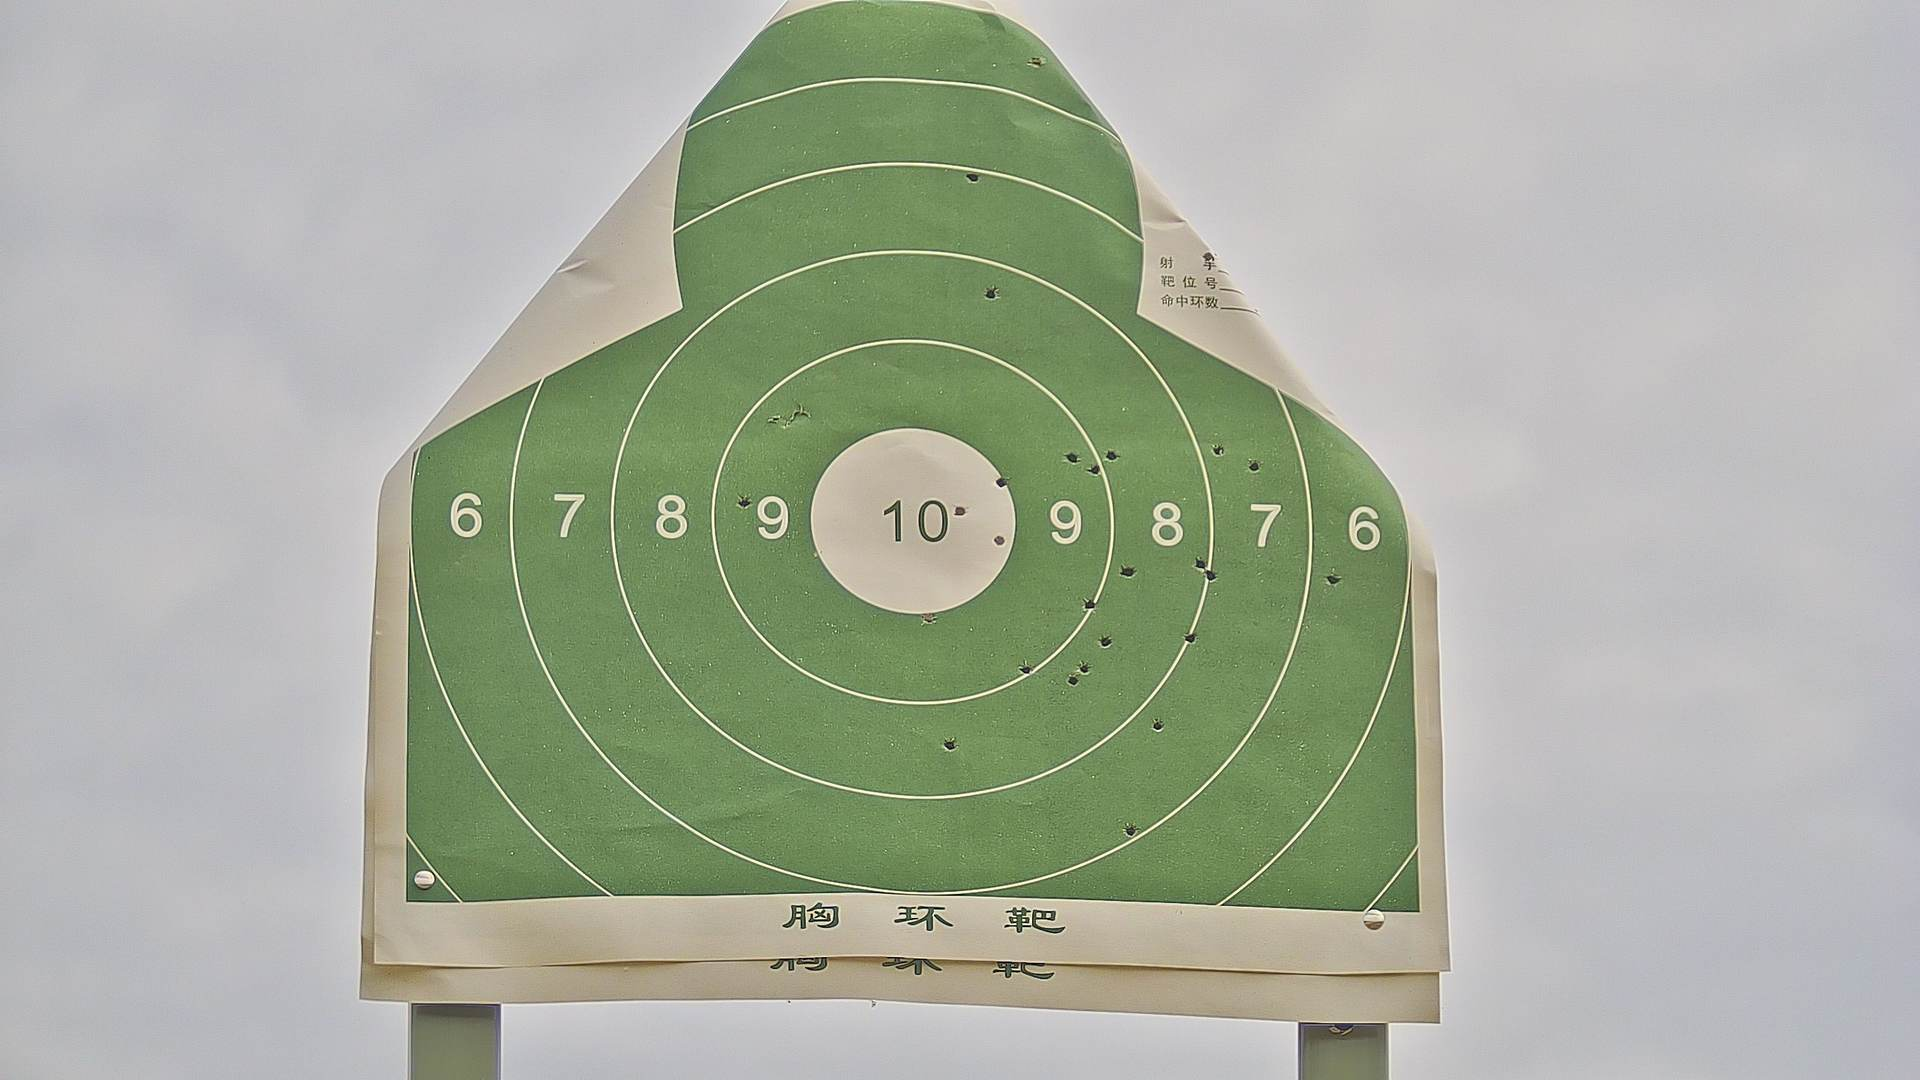hole: (981, 281, 1002, 305), (938, 736, 961, 756), (1095, 632, 1117, 651), (1120, 560, 1139, 582), (735, 488, 752, 512), (1120, 819, 1139, 839), (963, 166, 982, 185), (1179, 629, 1204, 644), (1203, 567, 1218, 589), (1014, 661, 1036, 676), (1067, 670, 1083, 692), (1245, 456, 1265, 473), (1323, 570, 1342, 587), (1104, 444, 1120, 465), (993, 475, 1015, 489), (1075, 659, 1096, 674), (1147, 716, 1168, 731), (1209, 439, 1225, 458), (992, 531, 1007, 550), (1064, 447, 1079, 467), (949, 502, 969, 517), (1083, 593, 1097, 613), (1087, 460, 1102, 477), (1191, 555, 1207, 571), (1029, 57, 1046, 69), (903, 513, 920, 524)
target: (411, 1, 1419, 915)
ten: (808, 422, 1015, 618)
